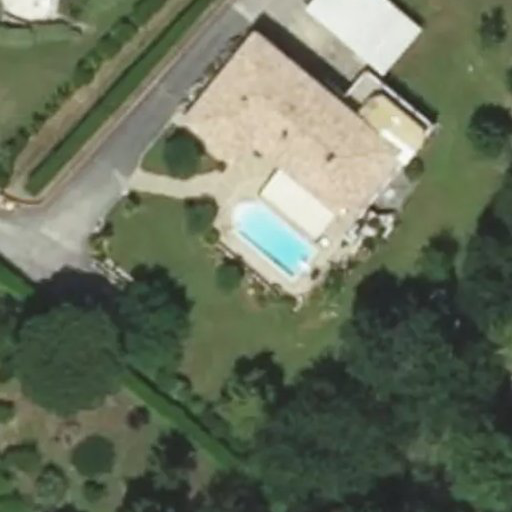pool: (235, 202, 314, 279)
